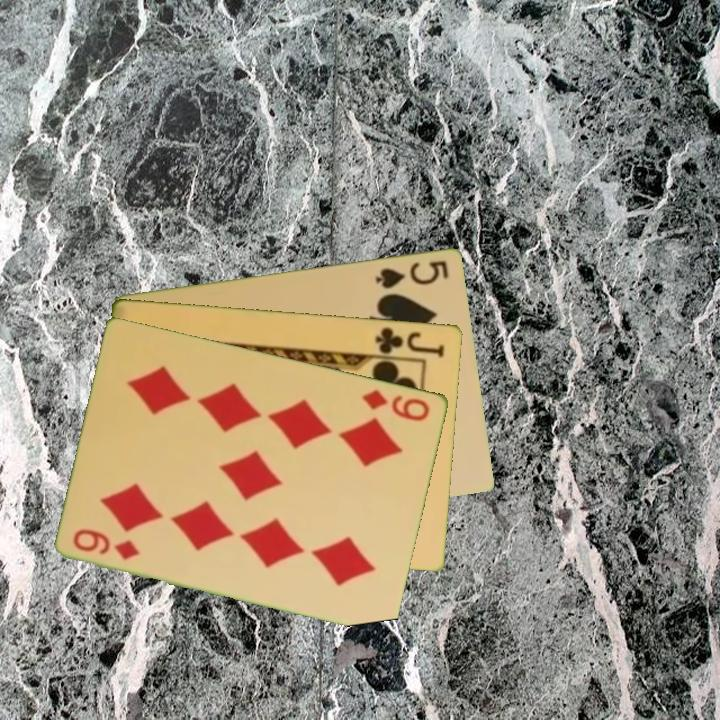5s: (372, 256, 452, 291)
9d: (359, 385, 433, 424), (70, 524, 143, 563)
Jc: (372, 323, 448, 359)
